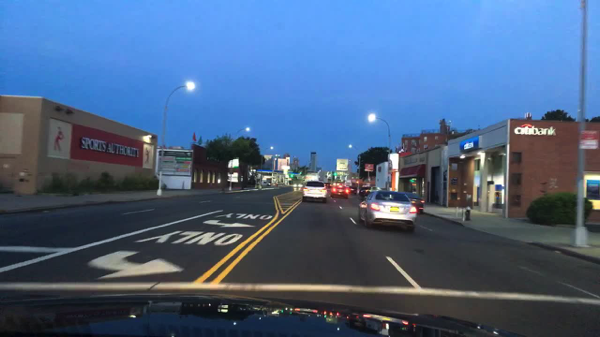car: (358, 190, 417, 232), (302, 180, 327, 203), (405, 191, 425, 214), (330, 187, 348, 198), (360, 187, 381, 196), (349, 186, 357, 193), (294, 183, 303, 187), (325, 182, 330, 189), (260, 182, 271, 185), (333, 182, 341, 186)
traffic light: (276, 181, 285, 186), (333, 173, 339, 176)
traffic sign: (580, 132, 597, 149)
